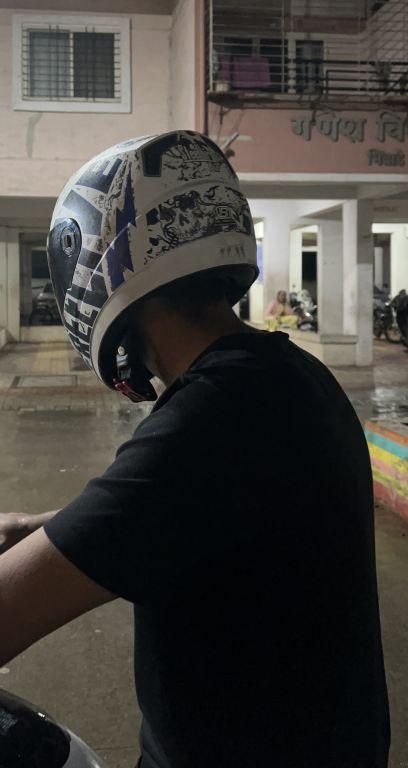helmet: (42, 122, 267, 411)
